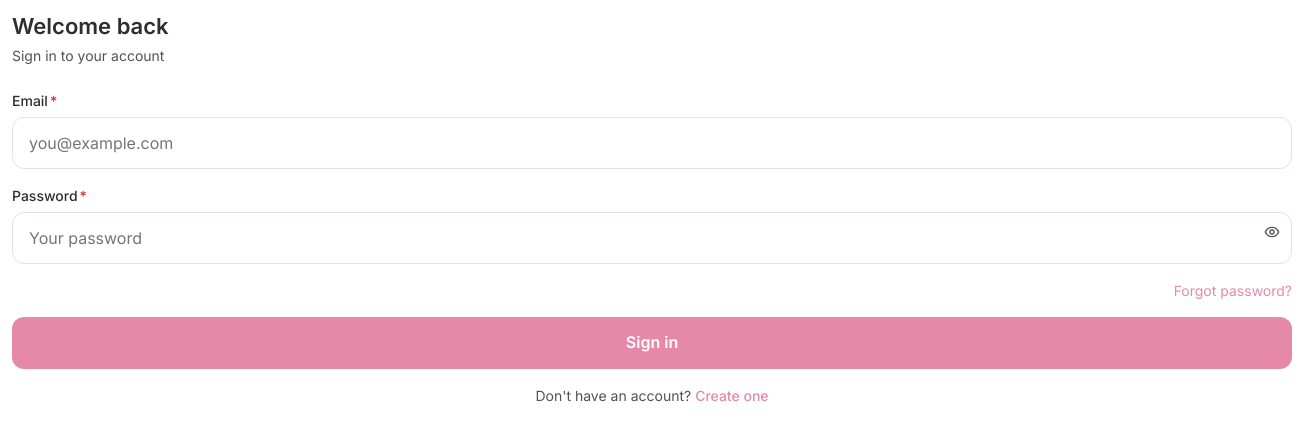
Scenario: LoginForm › shows password required error
Type "test@example.com" into the field labelled "Email*" at point(652, 143), box [12,117,1292,169]
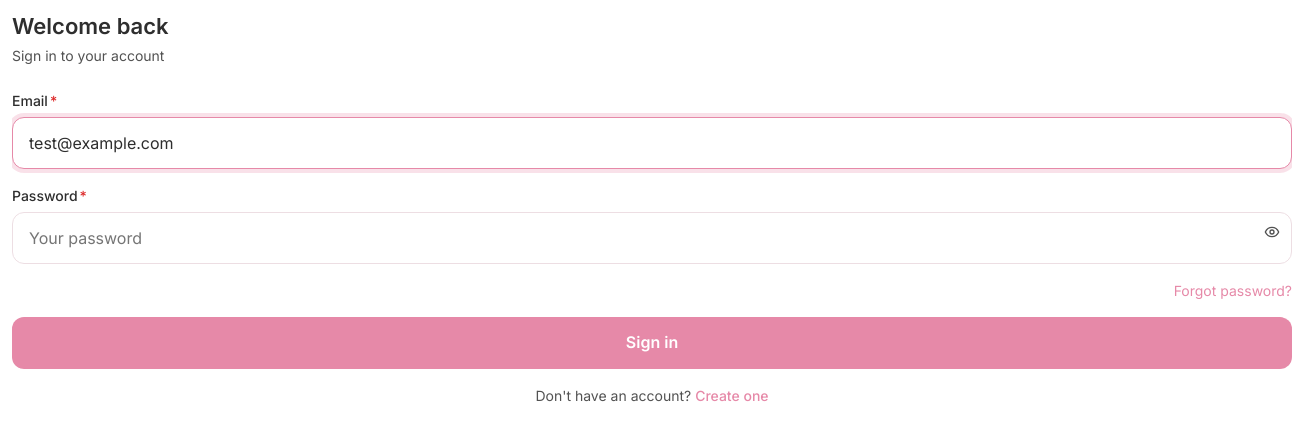
Click the button "Sign in" at point(652, 343), box [12,317,1292,369]
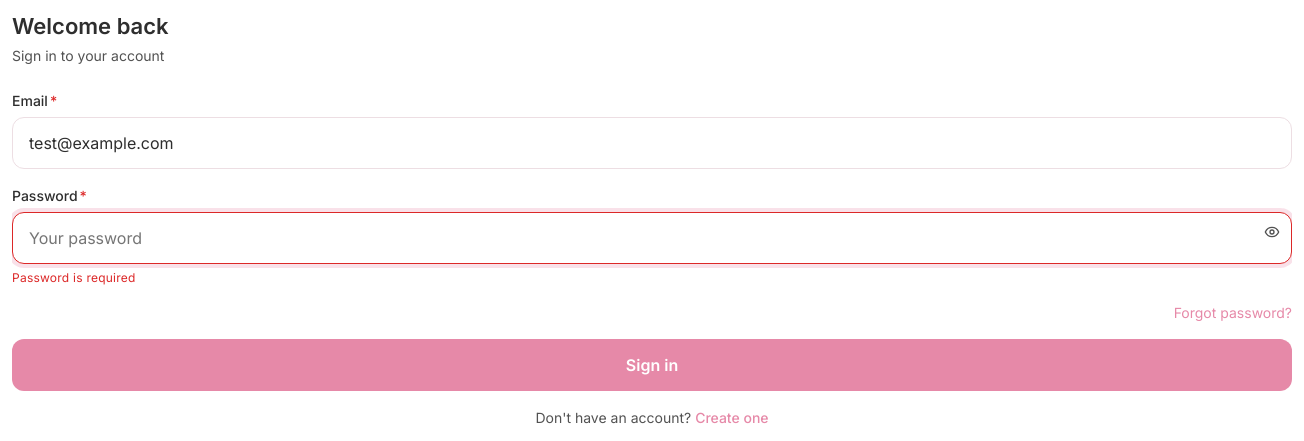
Check: the text "Password is required" is shown, box [12,270,136,285]
